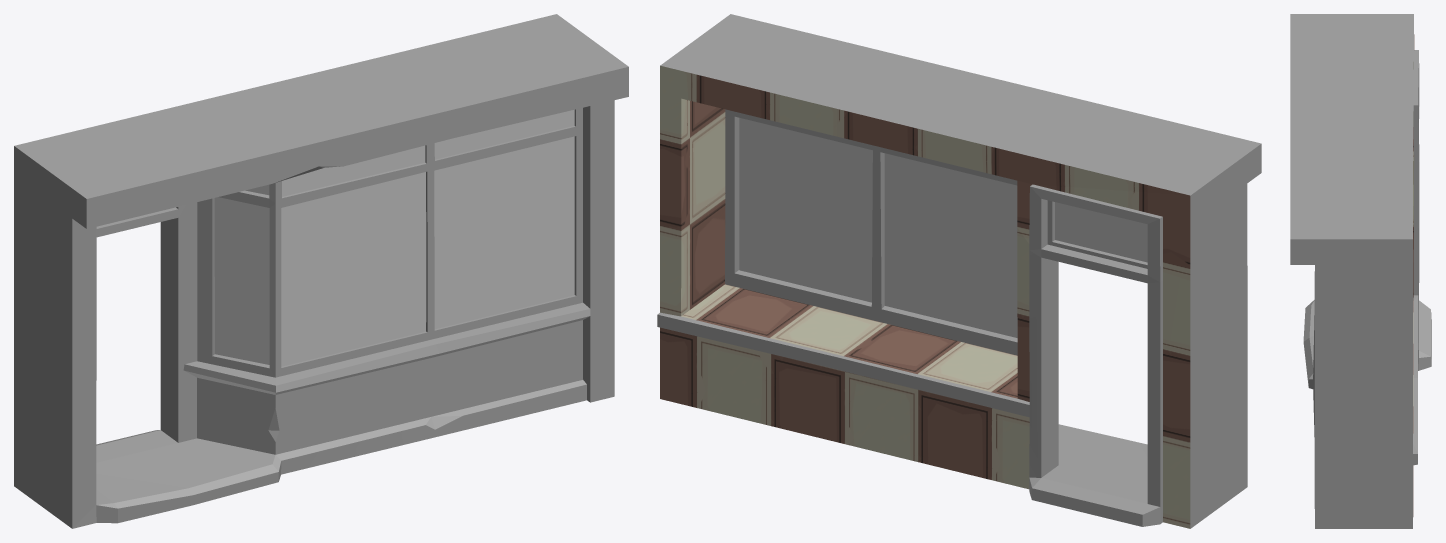
The model's file is SM_Bld_ShopFront_07.fbx.
3 renders of one model, left to right at view 1: azimuth 30°, elevation 25°; view 2: azimuth 150°, elevation 25°; view 3: azimuth 270°, elevation 25°, orthographic. The views are drawn at different scales.
Parts seen in each view (by area): view 1: SM_Bld_ShopFront_07, SM_Bld_ShopFront_07_Glass; view 2: SM_Bld_ShopFront_07, SM_Bld_ShopFront_07_Glass; view 3: SM_Bld_ShopFront_07.
Part boxes in pixels (<box>): SM_Bld_ShopFront_07: <box>14,14,628,528</box>; SM_Bld_ShopFront_07_Glass: <box>214,109,574,366</box>; SM_Bld_ShopFront_07: <box>657,14,1261,528</box>; SM_Bld_ShopFront_07_Glass: <box>739,118,1147,337</box>; SM_Bld_ShopFront_07: <box>1290,14,1431,528</box>.
Bounding box in the file's own units: 500 × 300 × 132.
